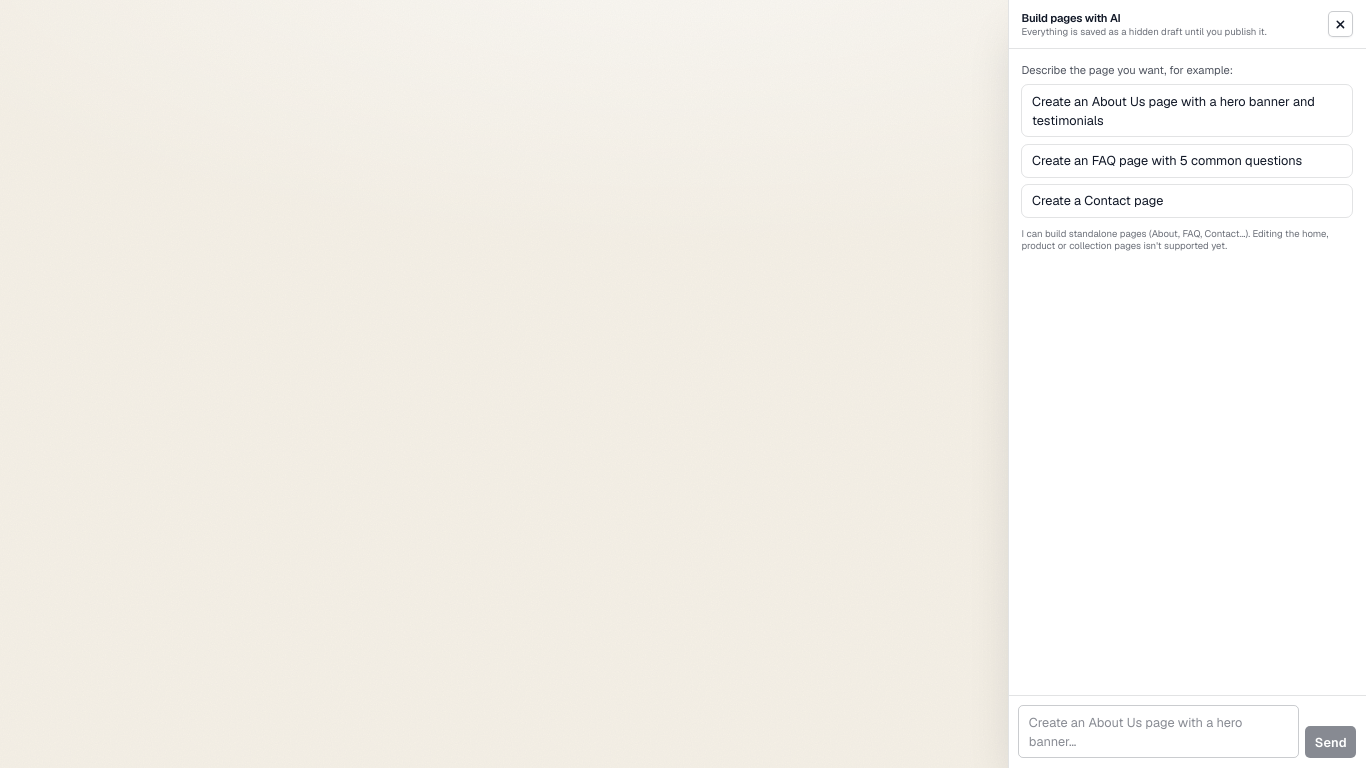
Test: AiPageBuilderPanel › discards
The image size is (1366, 768).
Type "go" into the text box named "Your request" at coordinates (1158, 732), box [1018,705,1299,758]
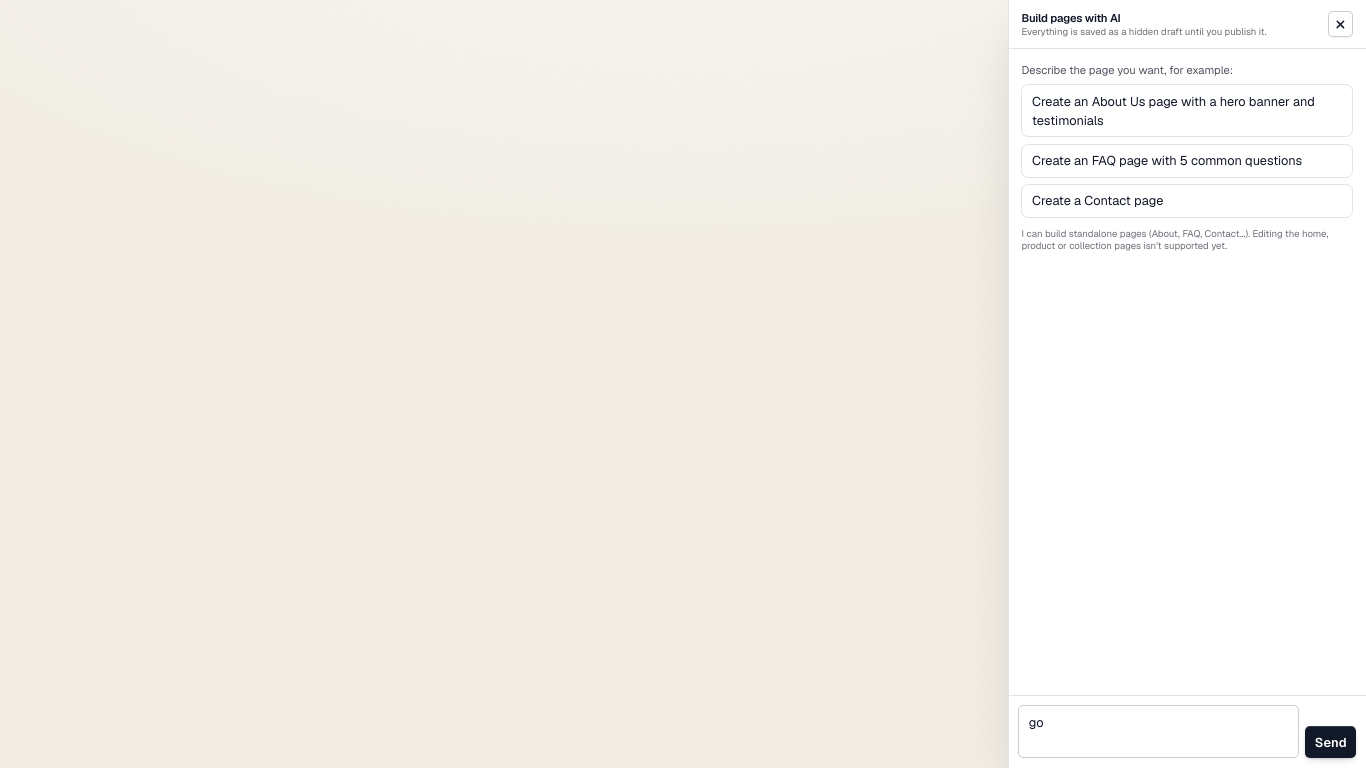
Click the button "Send" at coordinates (1331, 742), box [1305,726,1356,758]
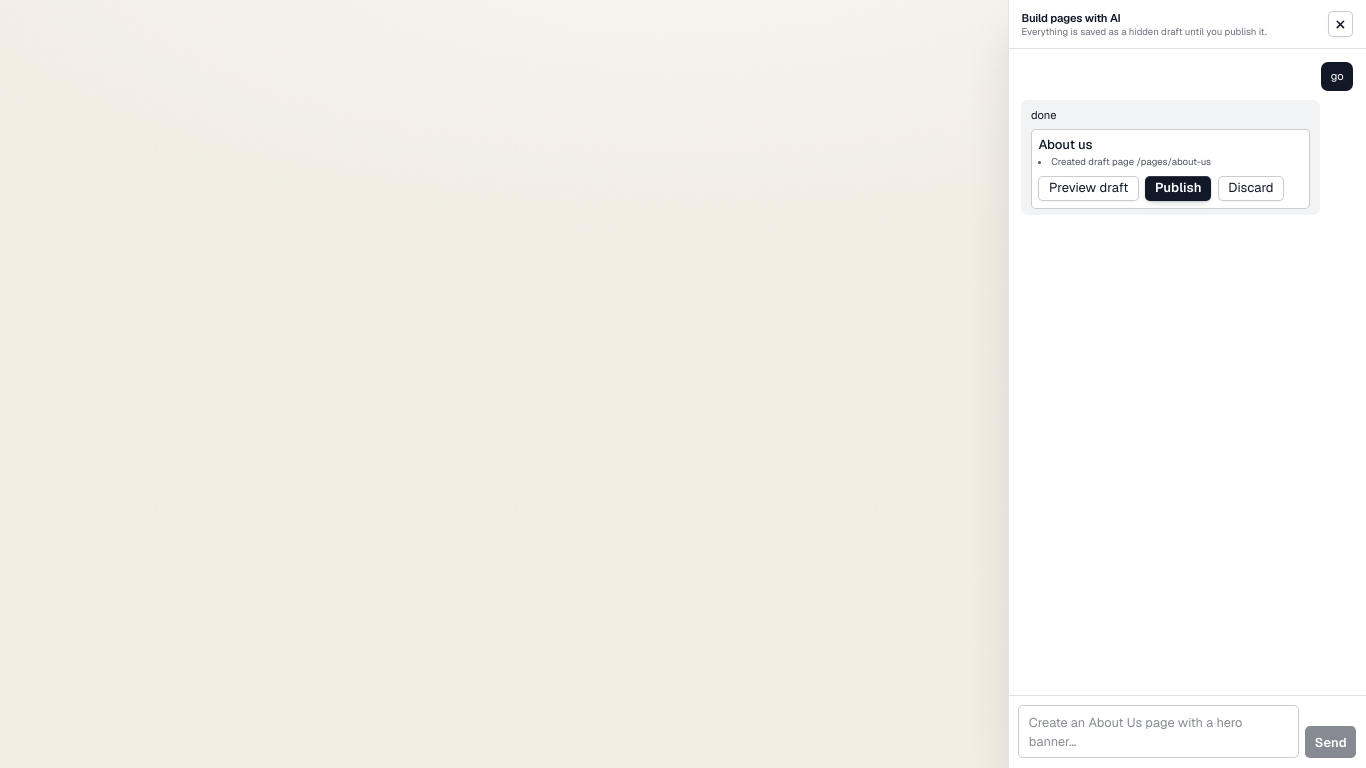
Click the button "Discard" at coordinates (1251, 188), box [1218,176,1284,201]
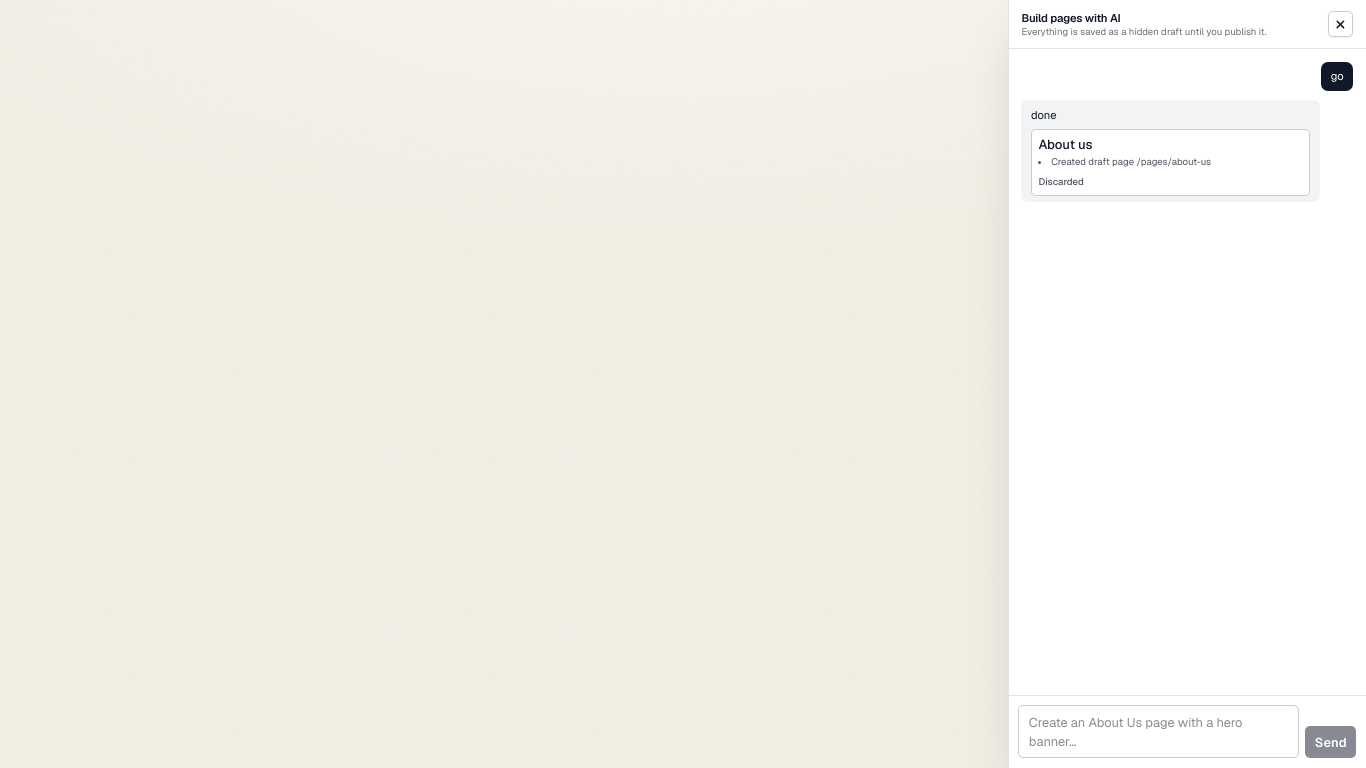
Expected: the text "Discarded" is shown, [1038,175,1084,188]
